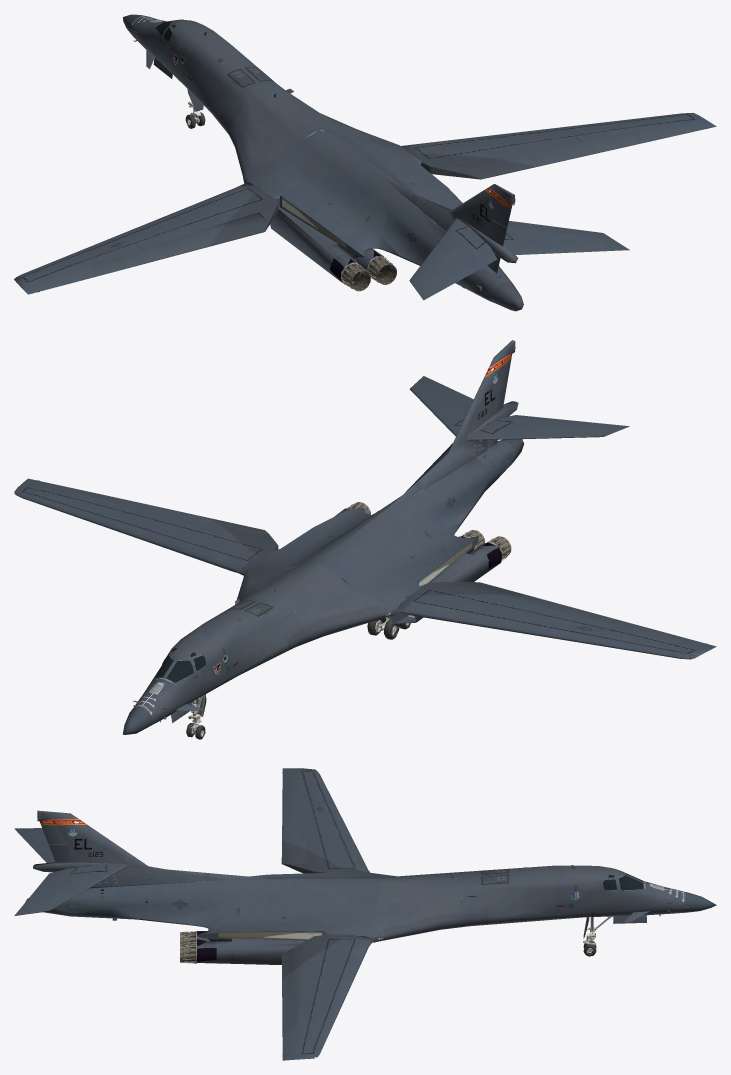
3 renders of one model, top to bottom at view 1: azimuth 30°, elevation 25°; view 2: azimuth 150°, elevation 25°; view 3: azimuth 270°, elevation 25°, orthographic. The views are drawn at different scales.
Parts seen in each view (by area): view 1: Object_23, Object_22, Object_24, Object_36, Object_37, Object_27; view 2: Object_23, Object_22, Object_24, Object_36, Object_37, Object_27, Object_13, Object_38; view 3: Object_22, Object_23, Object_36, Object_37, Object_24, Object_27, Object_13.
Boxes of the visible parts, bbox=[...] form: Object_23: bbox=[244, 130, 523, 311]; Object_22: bbox=[122, 14, 387, 180]; Object_24: bbox=[14, 183, 497, 300]; Object_36: bbox=[401, 113, 716, 254]; Object_37: bbox=[270, 175, 518, 282]; Object_27: bbox=[329, 249, 396, 291]; Object_23: bbox=[245, 439, 523, 615]; Object_22: bbox=[122, 562, 392, 734]; Object_24: bbox=[396, 415, 716, 659]; Object_36: bbox=[14, 376, 473, 575]; Object_37: bbox=[334, 340, 518, 624]; Object_27: bbox=[345, 502, 511, 568]; Object_13: bbox=[155, 648, 206, 682]; Object_38: bbox=[186, 617, 410, 739]; Object_22: bbox=[377, 865, 716, 941]; Object_23: bbox=[25, 871, 377, 942]; Object_36: bbox=[14, 864, 372, 1060]; Object_37: bbox=[33, 810, 305, 964]; Object_24: bbox=[14, 768, 369, 873]; Object_27: bbox=[180, 931, 216, 963]; Object_13: bbox=[603, 867, 643, 890].
Bounding box in the file's own units: 45.01 × 10.62 × 45.74.
Materials: 23 (22 with a texture image).
